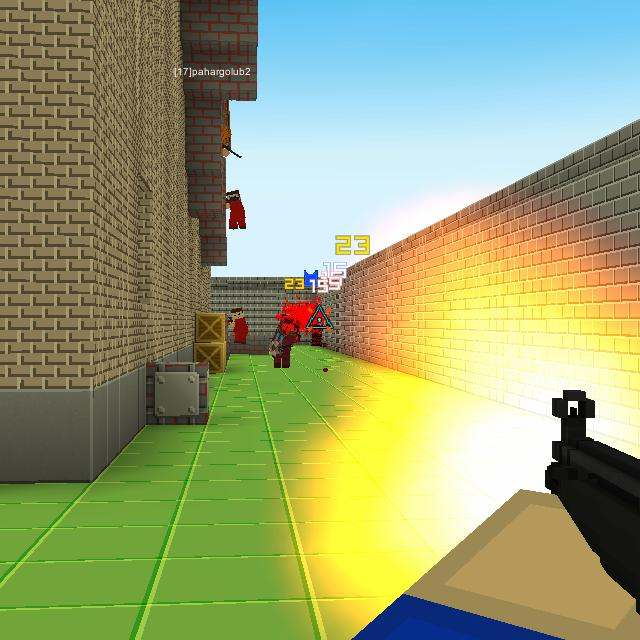enemy: (270, 312, 300, 367), (226, 189, 249, 232), (228, 306, 248, 346), (220, 124, 236, 158), (311, 314, 324, 346)
